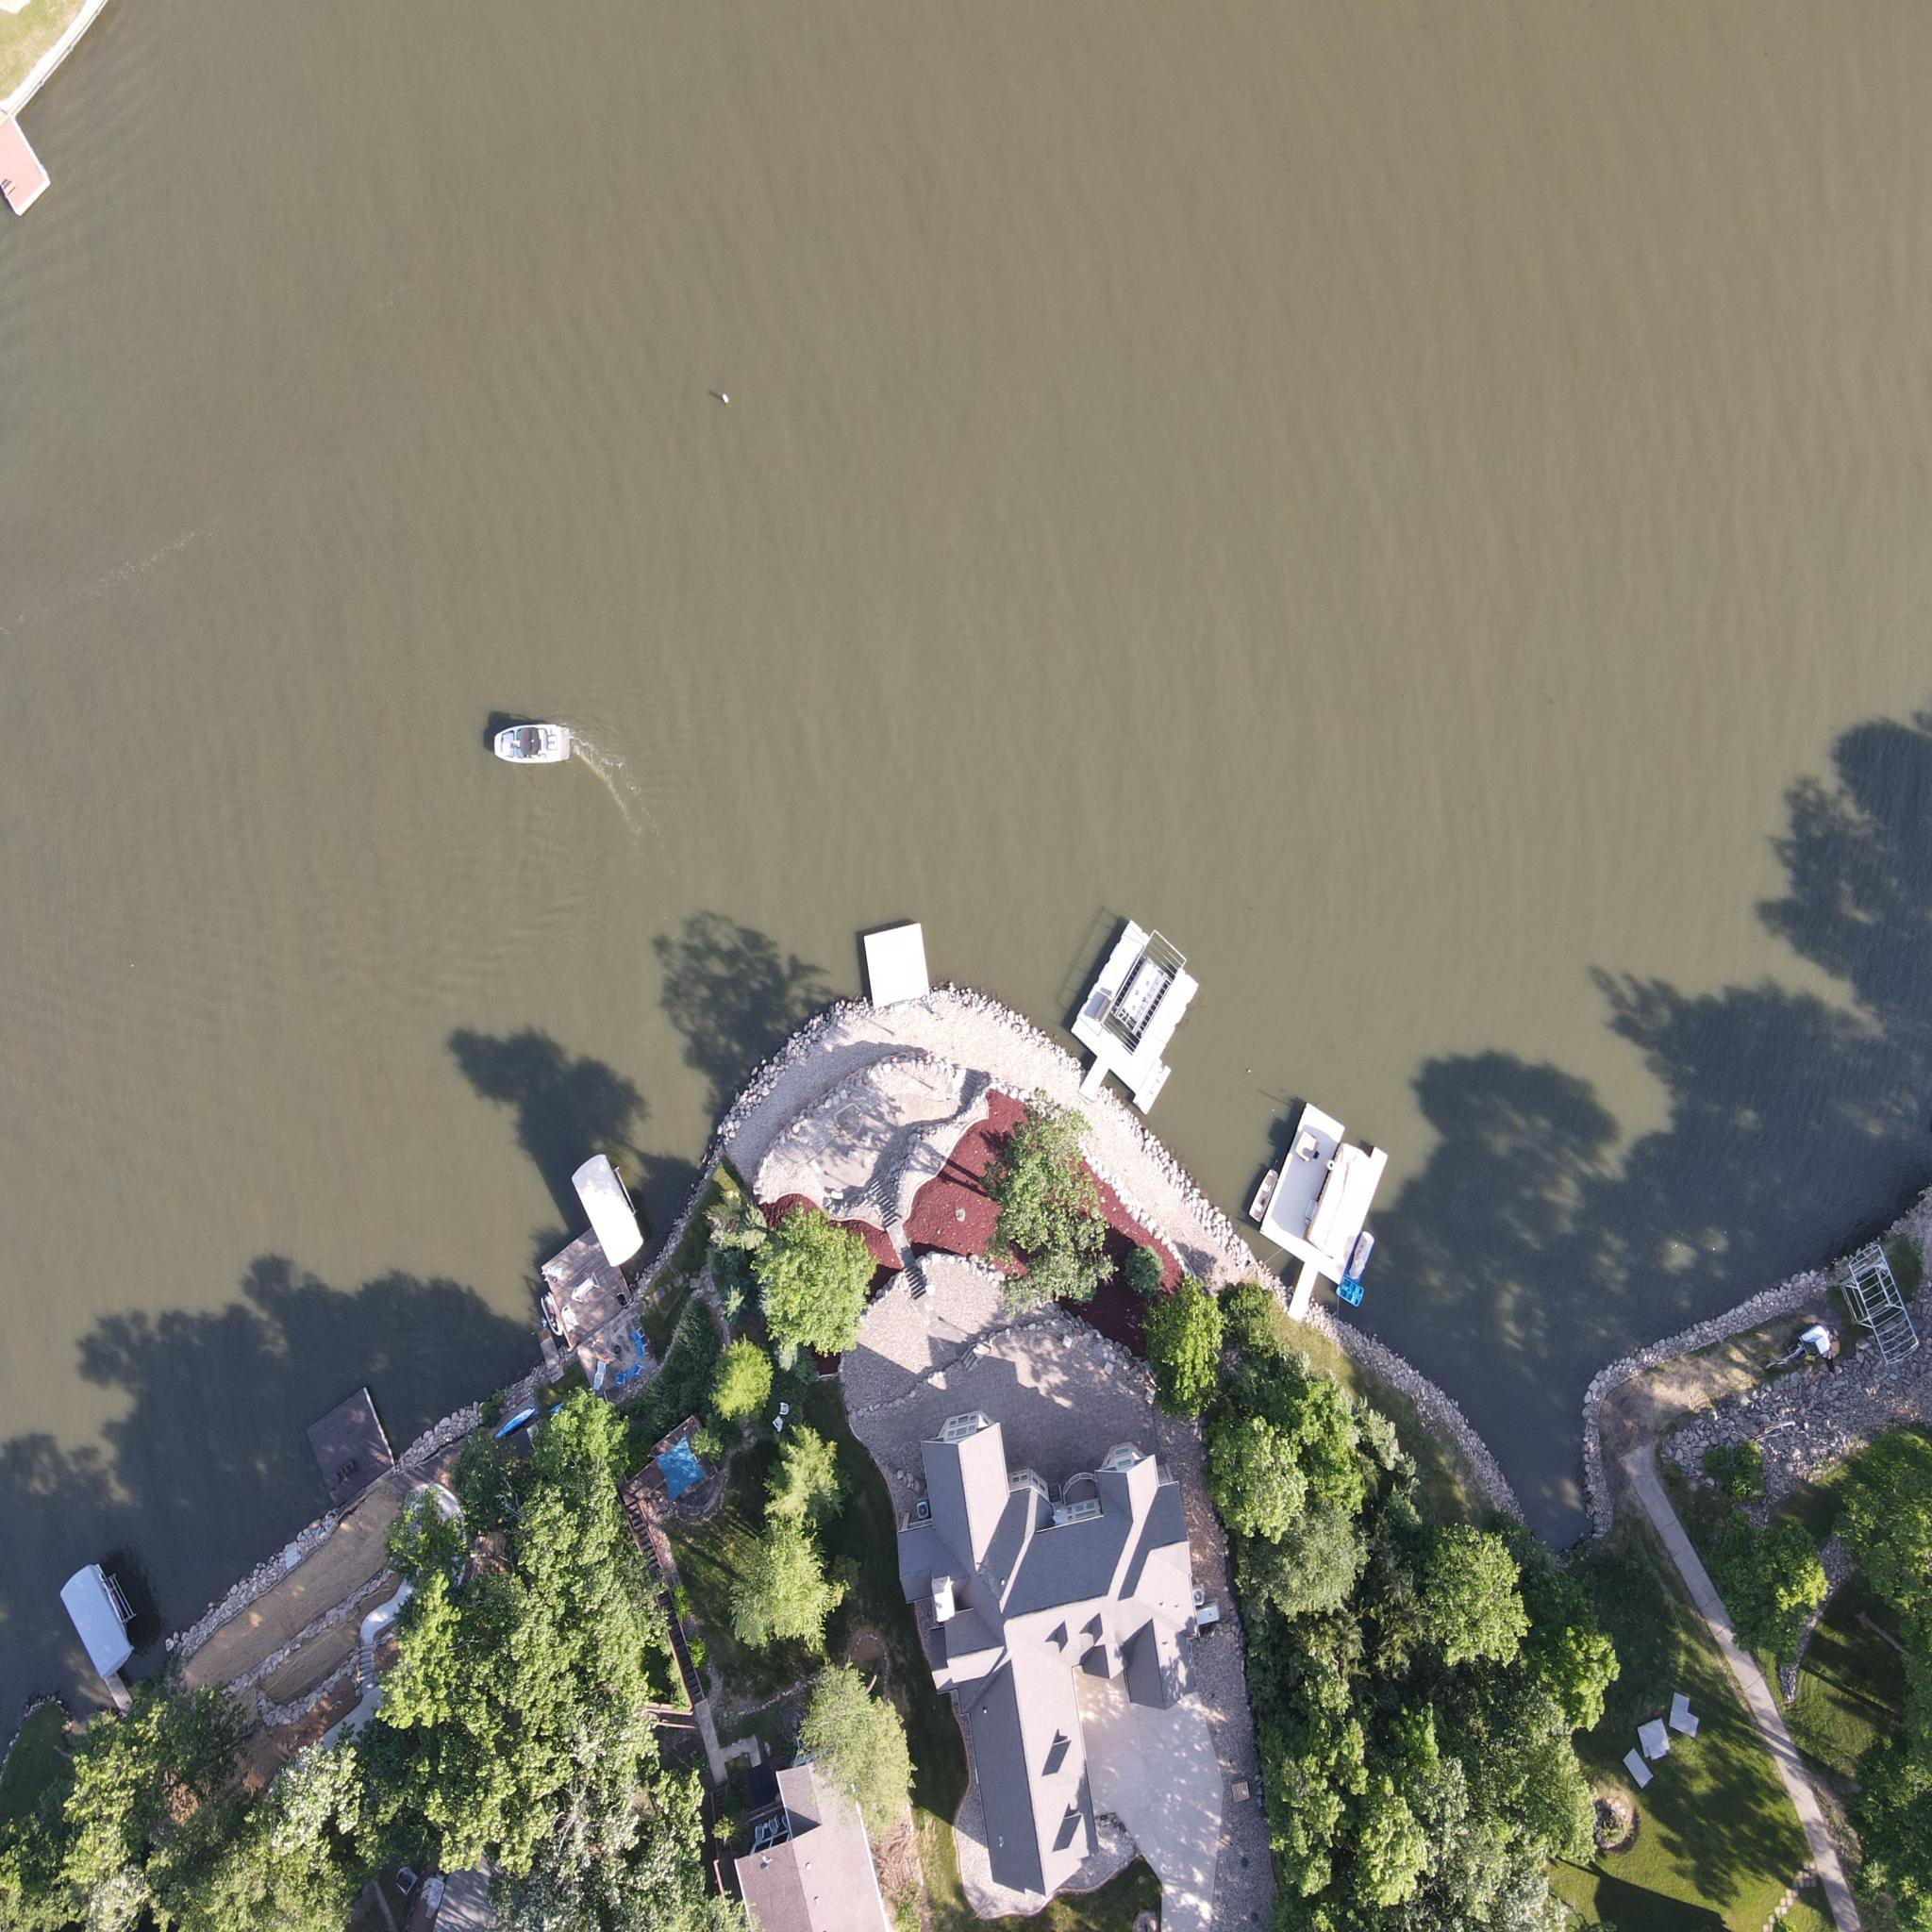boat: (478, 711, 593, 786)
dock: (1254, 1095, 1392, 1315), (1077, 920, 1203, 1139), (534, 1233, 651, 1373), (303, 1384, 403, 1511), (64, 1587, 149, 1721), (0, 99, 71, 205), (858, 920, 941, 1010)
lift: (570, 1141, 660, 1279), (1106, 924, 1187, 1072), (55, 1560, 142, 1686), (1840, 1240, 1916, 1380), (1307, 1136, 1382, 1272)
